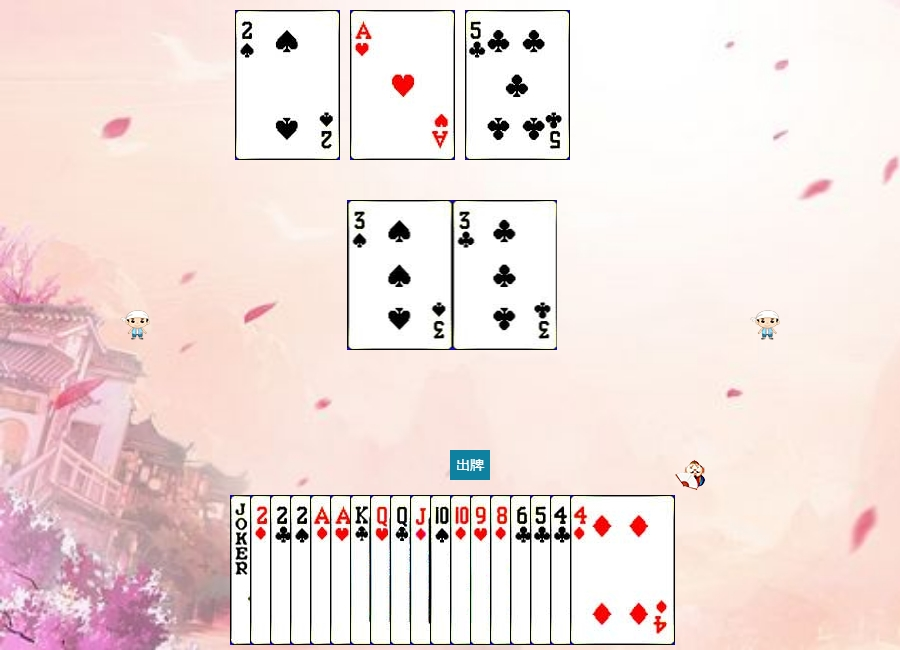10~1: (450, 495, 555, 645)
10~4: (430, 495, 535, 645)
11~1: (410, 495, 515, 645)
12~2: (390, 495, 495, 645)
12~3: (370, 495, 475, 645)
13~2: (350, 495, 455, 645)
14~1: (310, 495, 415, 645)
14~3: (350, 10, 455, 160), (330, 495, 435, 645)
15~1: (250, 495, 355, 645)
15~2: (270, 495, 375, 645)
15~4: (235, 10, 340, 160), (290, 495, 395, 645)
17~3: (230, 495, 335, 645)
3~2: (453, 200, 558, 350)
3~4: (348, 200, 453, 350)
4~1: (570, 495, 675, 645)
4~2: (550, 495, 655, 645)
5~2: (465, 10, 570, 160), (530, 495, 635, 645)
6~2: (510, 495, 615, 645)
8~1: (490, 495, 595, 645)
9~3: (470, 495, 575, 645)
